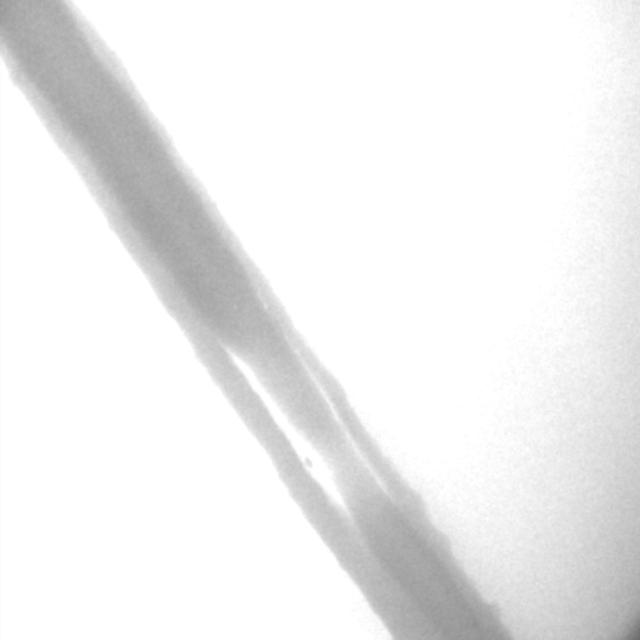unfused: (223, 341, 389, 515)
